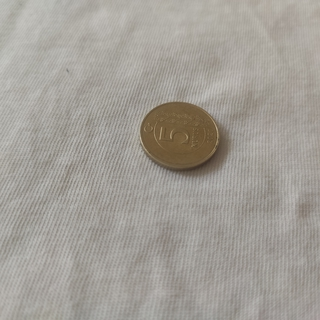5KURUS: (137, 99, 222, 172)
